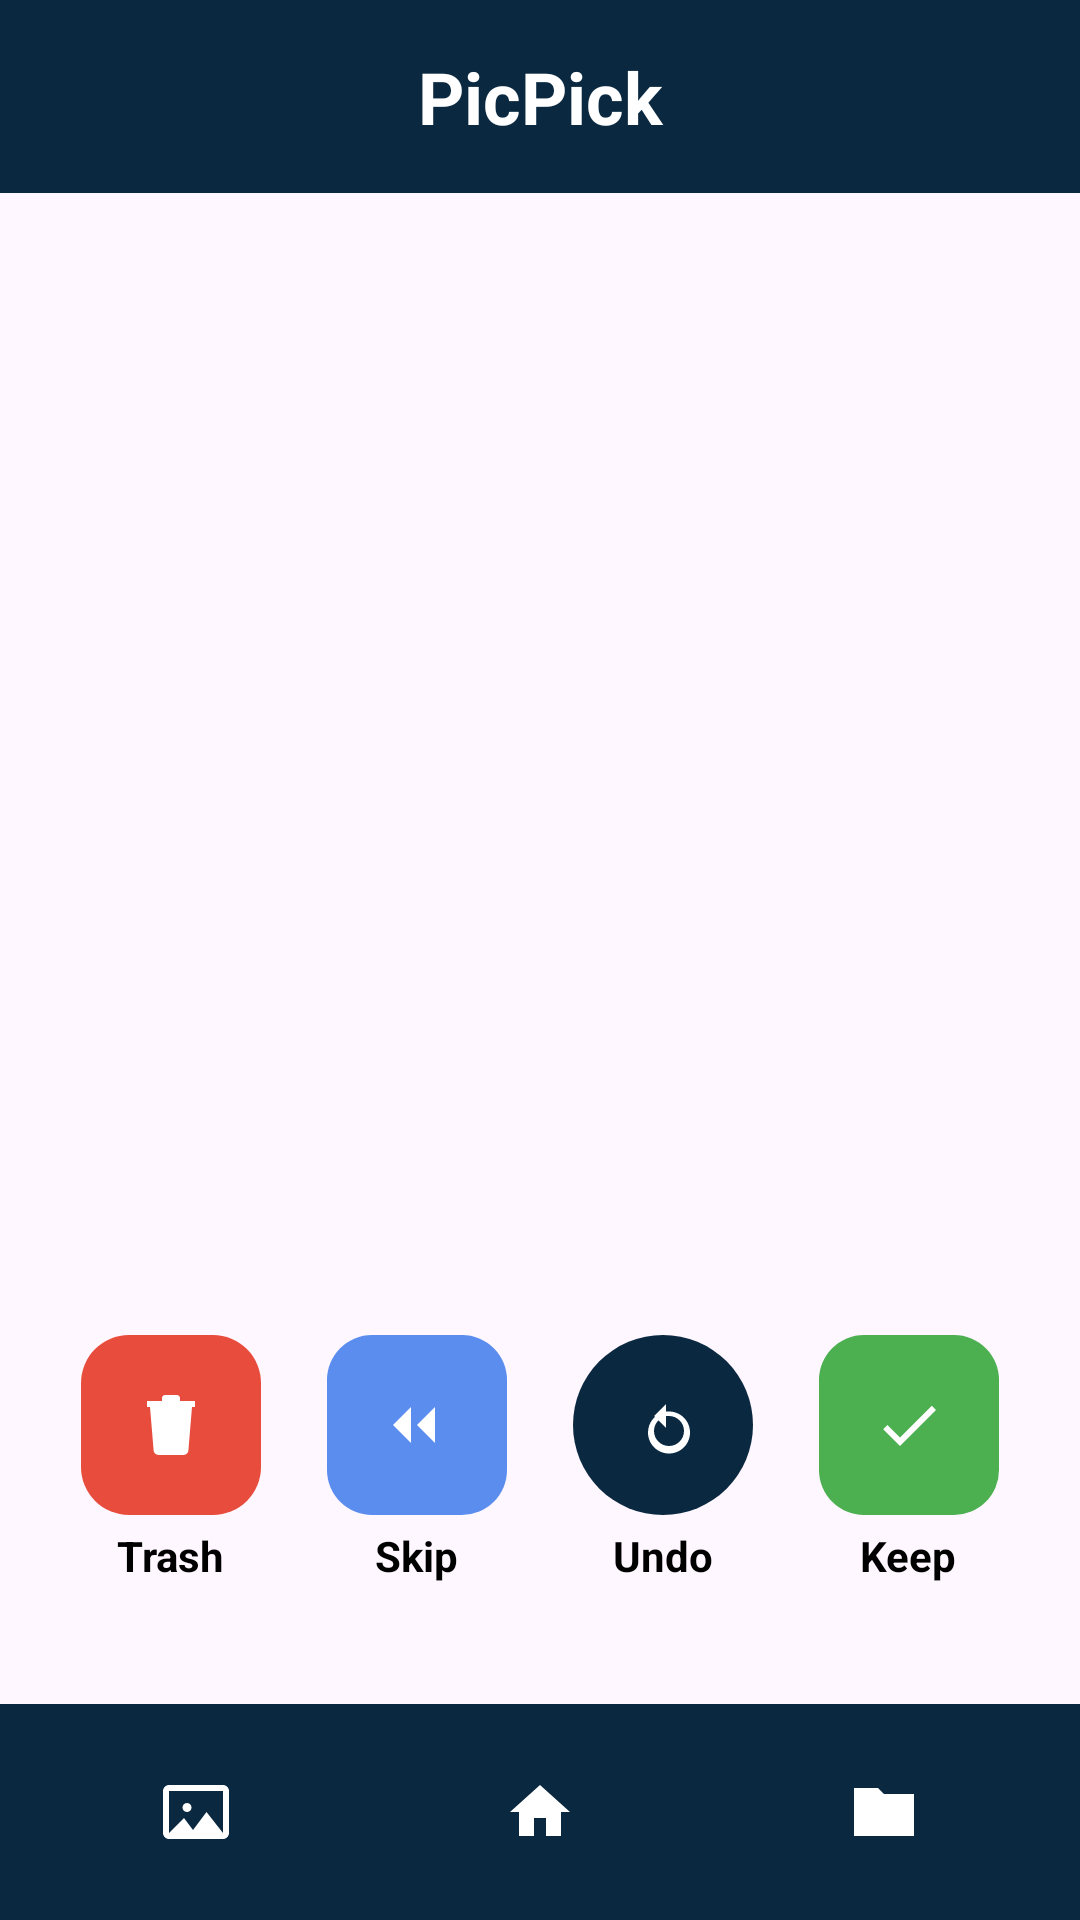

Icons on this 1080 × 1920 Android screen, each with its box as (x1, y1, x2, y2):
Gallery: (163, 1785, 229, 1839)
Home: (510, 1785, 570, 1836)
